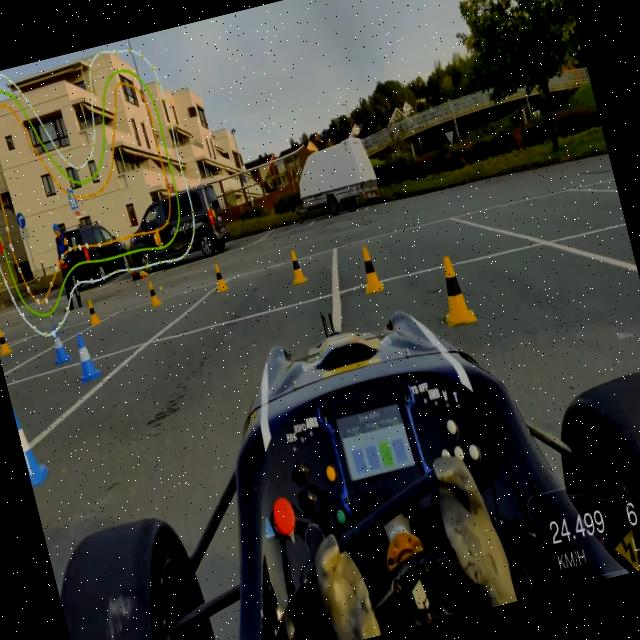blue_cone: (70, 330, 102, 382), (46, 324, 70, 364)
yellow_cone: (432, 252, 476, 326), (356, 245, 384, 294), (284, 248, 308, 284), (210, 262, 228, 292), (85, 297, 102, 326), (145, 279, 162, 307), (0, 326, 12, 354)
